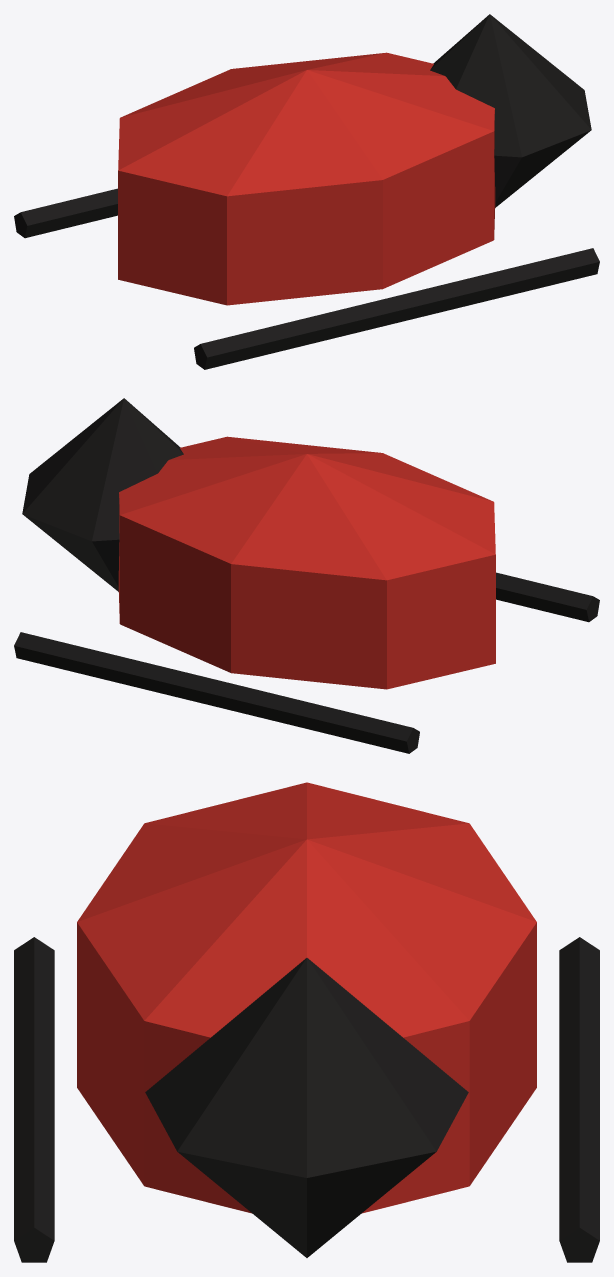
The model's file is beetle.obj.
3 views of the same model, one above another, from view 1: azimuth 30°, elevation 25°; view 2: azimuth 150°, elevation 25°; view 3: azimuth 270°, elevation 25° (orthographic). The views are drawn at different scales.
Size of the model in its own units: 0.7 by 0.324 by 0.4942.
2 materials, 2 textured.
